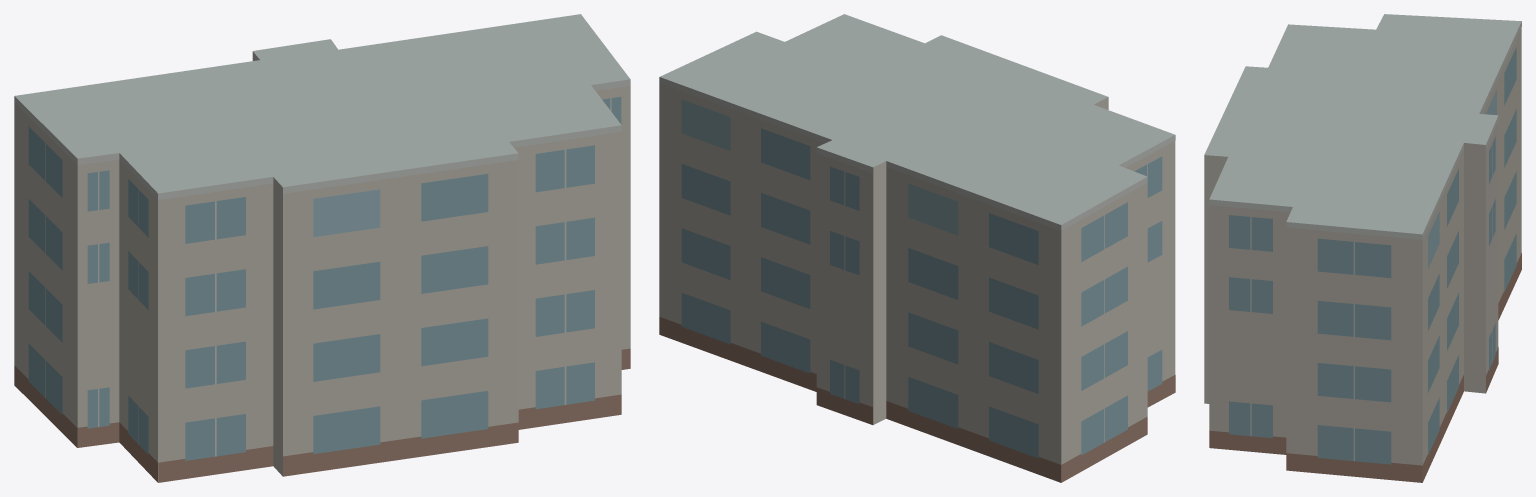
Rendered from survey-upis-32595440.glb.
The picture shows the model from 3 angles, left to right: view 1: azimuth 30°, elevation 25°; view 2: azimuth 150°, elevation 25°; view 3: azimuth 270°, elevation 25°; orthographic projection. The views are drawn at different scales.
Visible parts, largest first — view 1: survey-upis-32595440.tmp; view 2: survey-upis-32595440.tmp; view 3: survey-upis-32595440.tmp.
Part boxes in pixels (box(x1,y1,x2,y2)): survey-upis-32595440.tmp: box(14, 14, 630, 482); survey-upis-32595440.tmp: box(659, 14, 1175, 482); survey-upis-32595440.tmp: box(1204, 14, 1521, 482).
Size of the model in its own units: 20.35 by 10.7 by 12.4.
